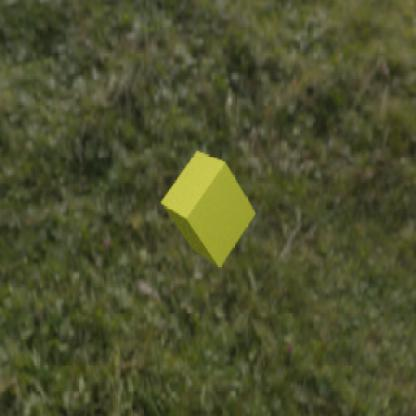cube: (160, 149, 255, 267)
